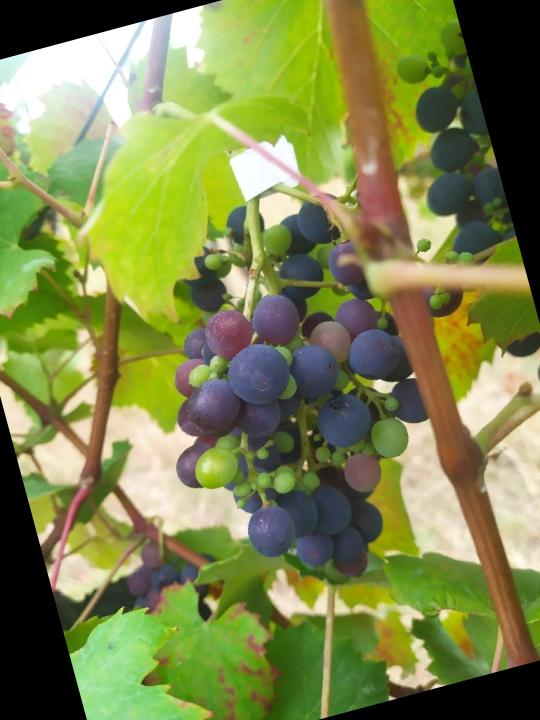grape: (111, 170, 465, 620)
